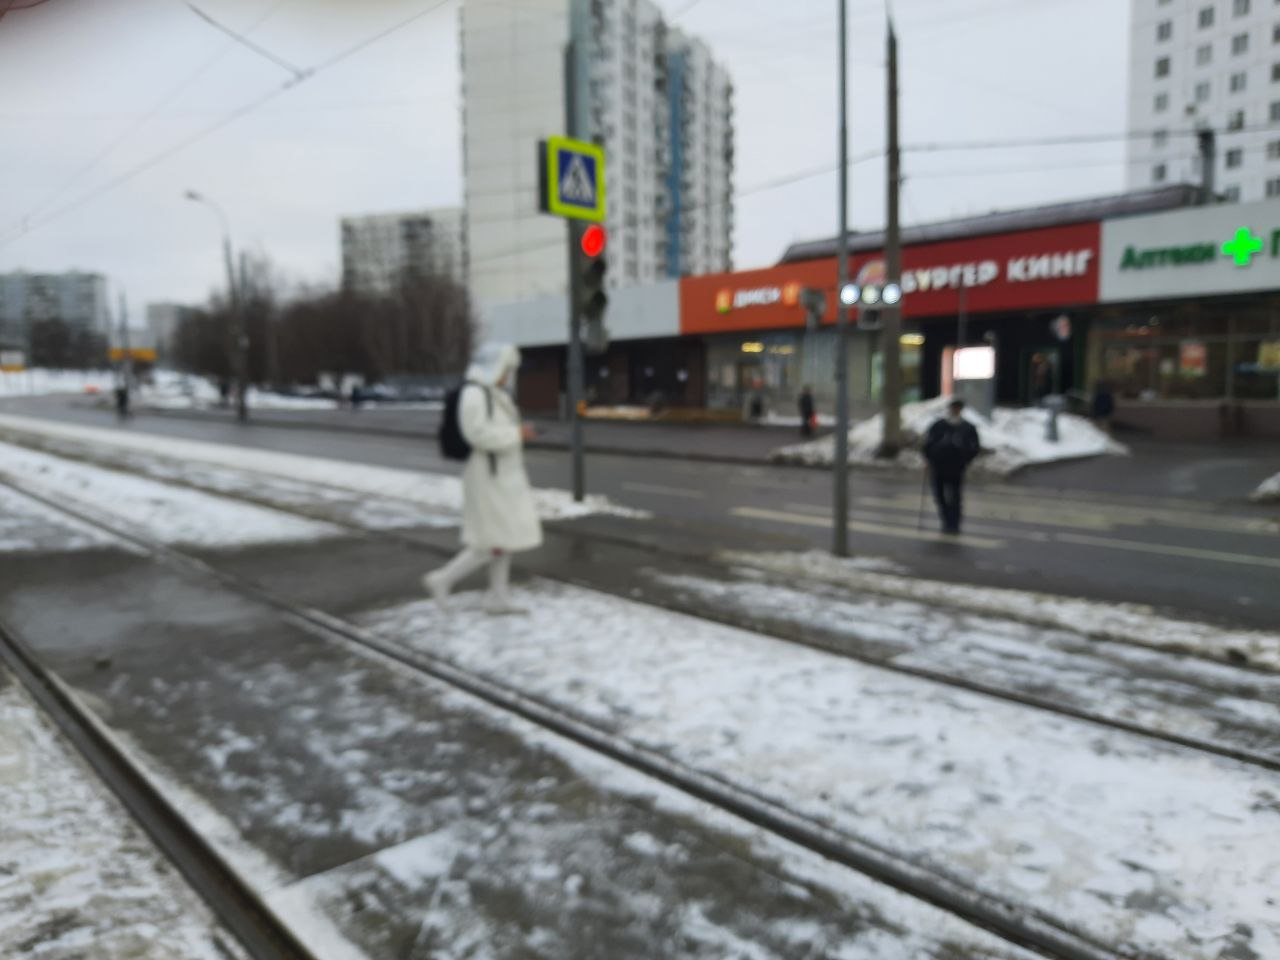sombie: (429, 322, 571, 624)
